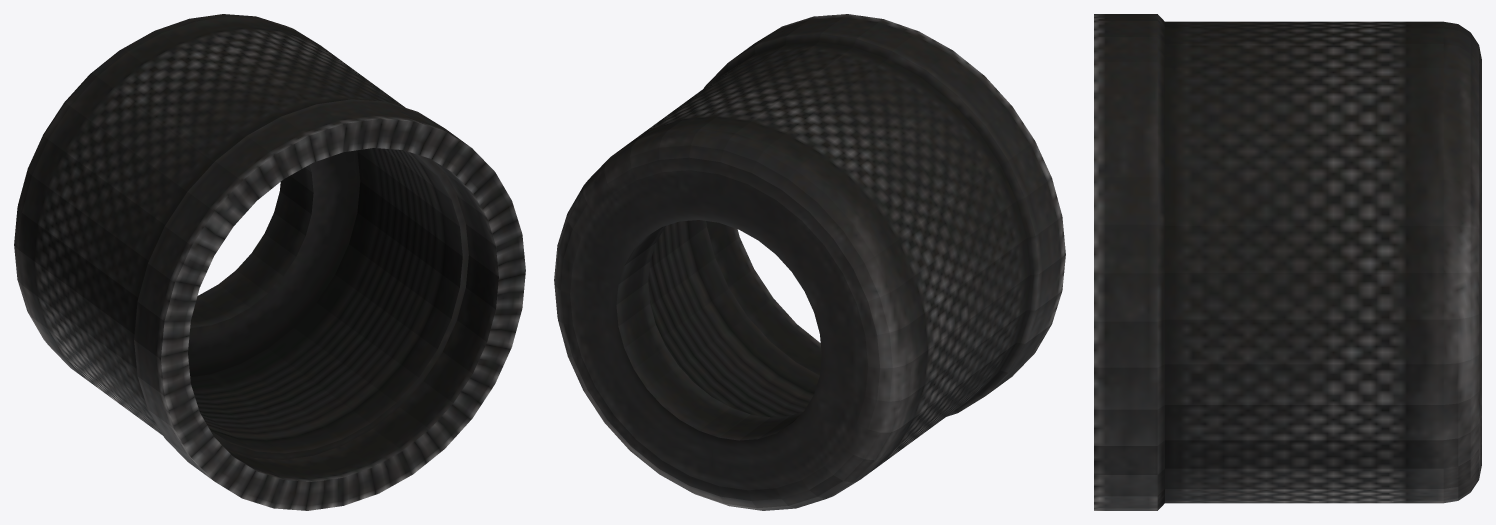
The picture shows the model from 3 angles, left to right: view 1: azimuth 30°, elevation 25°; view 2: azimuth 150°, elevation 25°; view 3: azimuth 270°, elevation 25°; orthographic projection. The views are drawn at different scales.
Parts seen in each view (by area): view 1: TW_6698c9aa36ba38d29101770f_PZ_Import; view 2: TW_6698c9aa36ba38d29101770f_PZ_Import; view 3: TW_6698c9aa36ba38d29101770f_PZ_Import.
Boxes of the visible parts, left/top/right/bottom form: TW_6698c9aa36ba38d29101770f_PZ_Import: left=14, top=14, right=525, bottom=510; TW_6698c9aa36ba38d29101770f_PZ_Import: left=554, top=14, right=1065, bottom=510; TW_6698c9aa36ba38d29101770f_PZ_Import: left=1094, top=14, right=1481, bottom=510.
Bounding box in the file's own units: 0.0188 × 0.0146 × 0.0188.
Materials: 1 (1 with a texture image).
